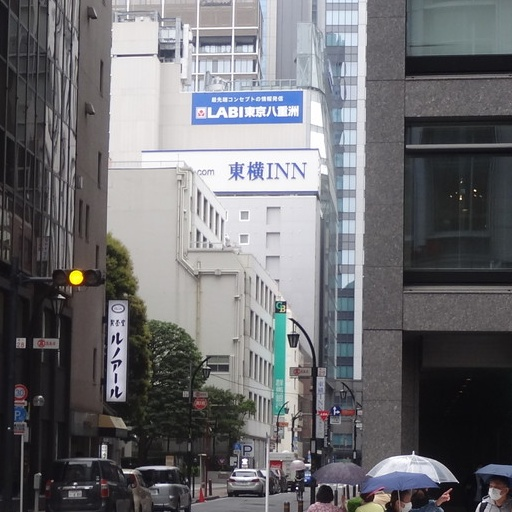Traffic_Signal_Yellow: (48, 262, 108, 290)
